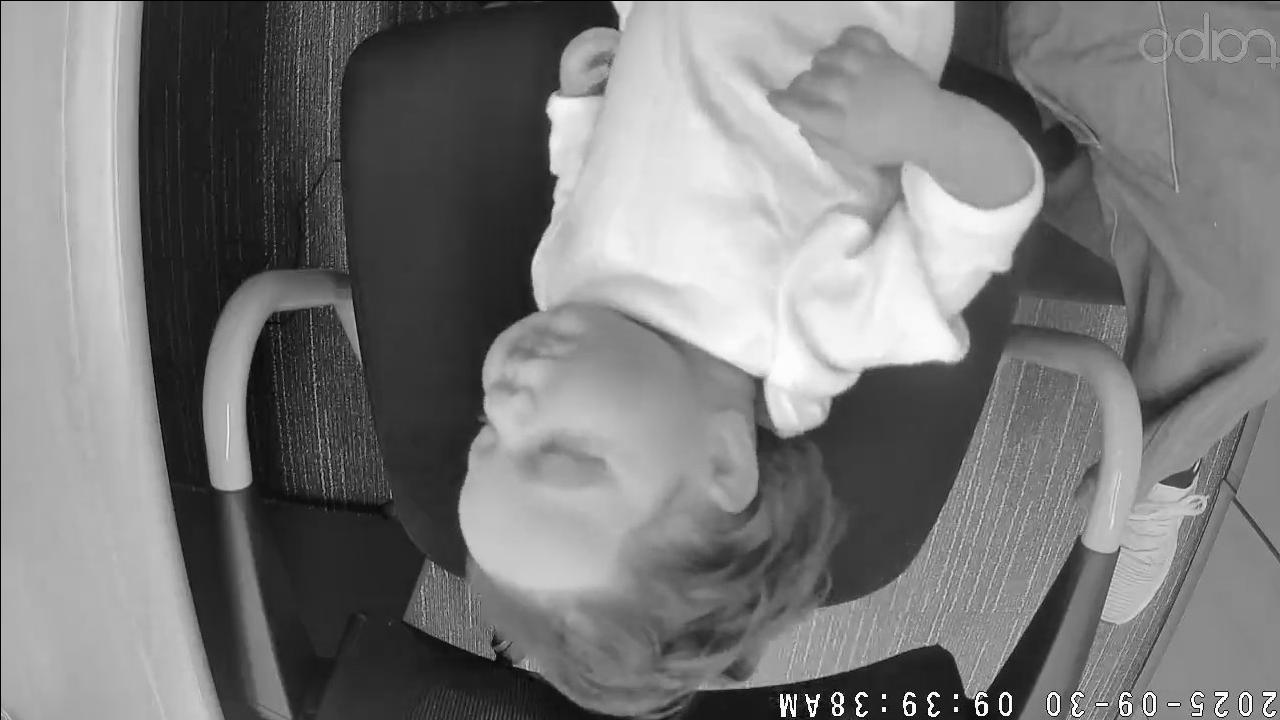hand: (763, 25, 939, 167), (551, 24, 624, 97)
